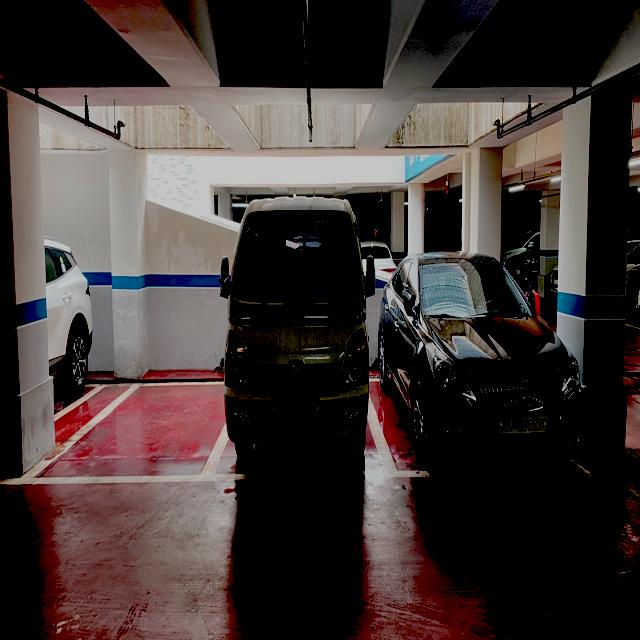empty: (55, 377, 228, 479)
occupied: (386, 256, 576, 476), (223, 208, 371, 472)
